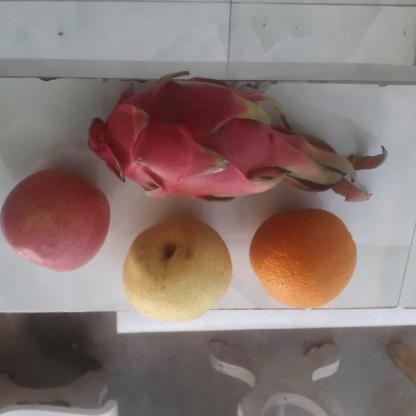apple: (0, 172, 110, 274)
orange: (245, 208, 361, 311)
pear: (116, 218, 236, 321)
pitaya: (72, 80, 291, 204)
